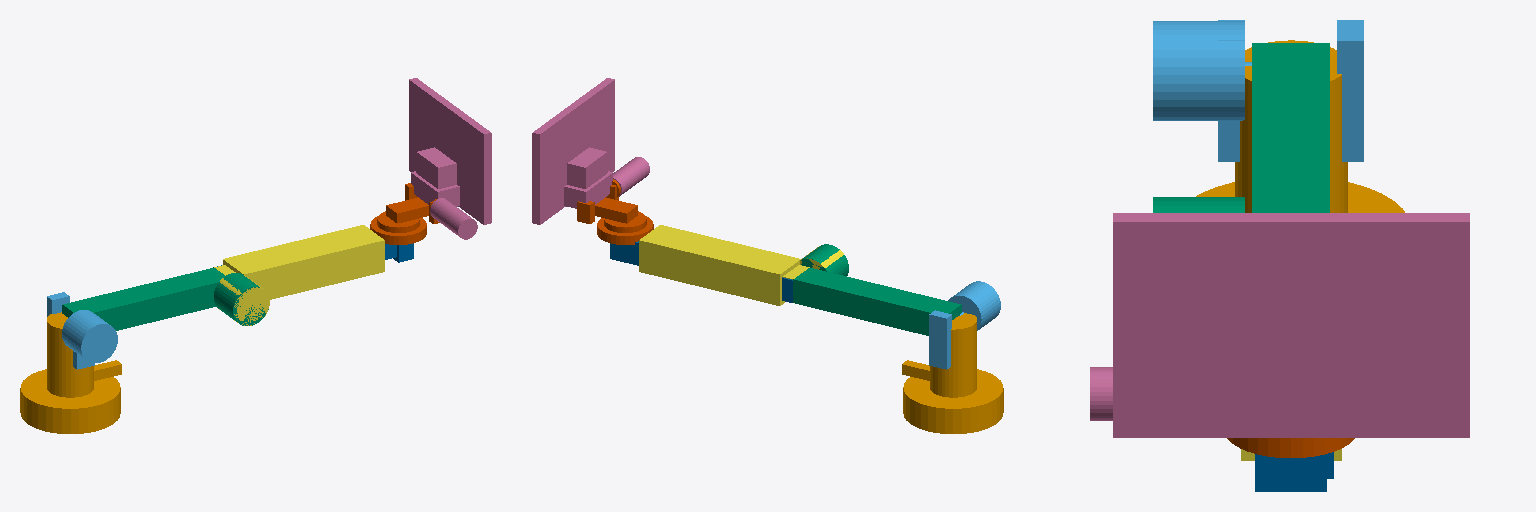
The robot description file, URDF, robot "face_screen_support_arm":
<?xml version="1.0"?>
<robot name="face_screen_support_arm">
  <link name="base_link">
    <visual><geometry><mesh filename="../meshes/base_link.stl" scale="0.001 0.001 0.001"/></geometry></visual>
    <collision><geometry><mesh filename="../meshes/base_link.stl" scale="0.001 0.001 0.001"/></geometry></collision>
    <inertial><origin xyz="0 0 0.05"/><mass value="2.0"/><inertia ixx="0.02" ixy="0" ixz="0" iyy="0.02" iyz="0" izz="0.02"/></inertial>
  </link>

  <joint name="joint1_base_yaw" type="revolute">
    <origin xyz="0 0 0.16" rpy="0 0 0"/>
    <parent link="base_link"/><child link="yaw_link"/>
    <axis xyz="0 0 1"/>
    <limit lower="-2.61799" upper="2.61799" effort="30" velocity="1.5"/>
  </joint>
  <link name="yaw_link">
    <visual><geometry><mesh filename="../meshes/yaw_link.stl" scale="0.001 0.001 0.001"/></geometry></visual>
    <collision><geometry><mesh filename="../meshes/yaw_link.stl" scale="0.001 0.001 0.001"/></geometry></collision>
    <inertial><origin xyz="0 0 0"/><mass value="0.7"/><inertia ixx="0.005" ixy="0" ixz="0" iyy="0.005" iyz="0" izz="0.005"/></inertial>
  </link>

  <joint name="joint2_shoulder_pitch" type="revolute">
    <origin xyz="0 0 0" rpy="0 0 0"/>
    <parent link="yaw_link"/><child link="upper_arm"/>
    <axis xyz="0 1 0"/>
    <limit lower="-3.14159" upper="0" effort="35" velocity="1.2"/>
  </joint>
  <link name="upper_arm">
    <visual><geometry><mesh filename="../meshes/upper_arm.stl" scale="0.001 0.001 0.001"/></geometry></visual>
    <collision><geometry><mesh filename="../meshes/upper_arm.stl" scale="0.001 0.001 0.001"/></geometry></collision>
    <inertial><origin xyz="0.14 0 0"/><mass value="0.8"/><inertia ixx="0.006" ixy="0" ixz="0" iyy="0.02" iyz="0" izz="0.02"/></inertial>
  </link>

  <joint name="joint3_elbow_pitch" type="revolute">
    <origin xyz="0.28 0 0" rpy="0 0 0"/>
    <parent link="upper_arm"/><child link="forearm"/>
    <axis xyz="0 1 0"/>
    <limit lower="-2.0944" upper="2.61799" effort="30" velocity="1.2"/>
  </joint>
  <link name="forearm">
    <visual><geometry><mesh filename="../meshes/forearm.stl" scale="0.001 0.001 0.001"/></geometry></visual>
    <collision><geometry><mesh filename="../meshes/forearm.stl" scale="0.001 0.001 0.001"/></geometry></collision>
    <inertial><origin xyz="0.12 0 0"/><mass value="0.7"/><inertia ixx="0.004" ixy="0" ixz="0" iyy="0.015" iyz="0" izz="0.015"/></inertial>
  </link>

  <joint name="joint4_telescopic" type="prismatic">
    <origin xyz="0.24 0 0" rpy="0 0 0"/>
    <parent link="forearm"/><child link="telescopic_slider"/>
    <axis xyz="1 0 0"/>
    <limit lower="0" upper="0.45" effort="120" velocity="0.25"/>
  </joint>
  <link name="telescopic_slider">
    <visual><geometry><mesh filename="../meshes/telescopic_slider.stl" scale="0.001 0.001 0.001"/></geometry></visual>
    <collision><geometry><mesh filename="../meshes/telescopic_slider.stl" scale="0.001 0.001 0.001"/></geometry></collision>
    <inertial><origin xyz="0 0 0.04"/><mass value="0.55"/><inertia ixx="0.003" ixy="0" ixz="0" iyy="0.012" iyz="0" izz="0.012"/></inertial>
  </link>

  <joint name="joint5_screen_pan" type="revolute">
    <origin xyz="0.085 0 0.024" rpy="0 0 0"/>
    <parent link="telescopic_slider"/><child link="screen_pan_link"/>
    <axis xyz="0 0 1"/>
    <limit lower="-3.14159" upper="3.14159" effort="8" velocity="2.0"/>
  </joint>
  <link name="screen_pan_link">
    <visual><geometry><mesh filename="../meshes/screen_pan_link.stl" scale="0.001 0.001 0.001"/></geometry></visual>
    <collision><geometry><mesh filename="../meshes/screen_pan_link.stl" scale="0.001 0.001 0.001"/></geometry></collision>
    <inertial><origin xyz="0 0 0"/><mass value="0.25"/><inertia ixx="0.001" ixy="0" ixz="0" iyy="0.001" iyz="0" izz="0.001"/></inertial>
  </link>

  <joint name="joint6_screen_pitch" type="revolute">
    <origin xyz="0.05 0 0.042" rpy="0 0 0"/>
    <parent link="screen_pan_link"/><child link="screen_pitch_link"/>
    <axis xyz="0 1 0"/>
    <limit lower="-1.0472" upper="1.0472" effort="8" velocity="2.0"/>
  </joint>
  <link name="screen_pitch_link">
    <visual><geometry><mesh filename="../meshes/screen_pitch_link.stl" scale="0.001 0.001 0.001"/></geometry></visual>
    <inertial><origin xyz="0.04 0 0"/><mass value="0.65"/><inertia ixx="0.006" ixy="0" ixz="0" iyy="0.004" iyz="0" izz="0.008"/></inertial>
  </link>

  <joint name="screen_center_fixed" type="fixed">
    <origin xyz="0.052 0 0.072" rpy="0 0 0"/>
    <parent link="screen_pitch_link"/><child link="screen_center"/>
  </joint>
  <link name="screen_center"/>
</robot>

--- What the picture shows (computed from the rendered views, not written in the file) ---
Views: 3 orthographic renders of the robot side by side, from view 1: azimuth 30°, elevation 25°; view 2: azimuth 150°, elevation 25°; view 3: azimuth 270°, elevation 25°.
Model face_screen_support_arm with 8 links and 7 joints (5 revolute, 1 prismatic, 1 fixed), rooted at base_link, posed all joints at 0.
Links seen in each view (by area): view 1: screen_pitch_link, forearm, base_link, upper_arm, yaw_link, screen_pan_link; view 2: screen_pitch_link, forearm, base_link, upper_arm, yaw_link, screen_pan_link, telescopic_slider; view 3: screen_pitch_link, upper_arm, yaw_link, base_link, telescopic_slider, screen_pan_link.
Link boxes in pixels (left/top/right/bottom): screen_pitch_link: left=409, top=78, right=491, bottom=239; forearm: left=214, top=225, right=384, bottom=325; base_link: left=20, top=312, right=121, bottom=433; upper_arm: left=62, top=268, right=268, bottom=330; yaw_link: left=47, top=292, right=117, bottom=369; screen_pan_link: left=370, top=183, right=439, bottom=244; screen_pitch_link: left=532, top=78, right=649, bottom=224; forearm: left=639, top=225, right=843, bottom=305; base_link: left=902, top=313, right=1003, bottom=433; upper_arm: left=793, top=244, right=961, bottom=335; yaw_link: left=929, top=281, right=1000, bottom=369; screen_pan_link: left=577, top=179, right=653, bottom=244; telescopic_slider: left=610, top=241, right=792, bottom=302; screen_pitch_link: left=1090, top=213, right=1469, bottom=437; upper_arm: left=1153, top=43, right=1329, bottom=212; yaw_link: left=1153, top=20, right=1363, bottom=161; base_link: left=1196, top=40, right=1404, bottom=212; telescopic_slider: left=1255, top=452, right=1333, bottom=491; screen_pan_link: left=1227, top=438, right=1354, bottom=457.
Bounding box of the posed robot: 0.787 × 0.255 × 0.378 m (x, y, z).
7 mesh visuals loaded from 7 distinct referenced files (7 binary STL).
